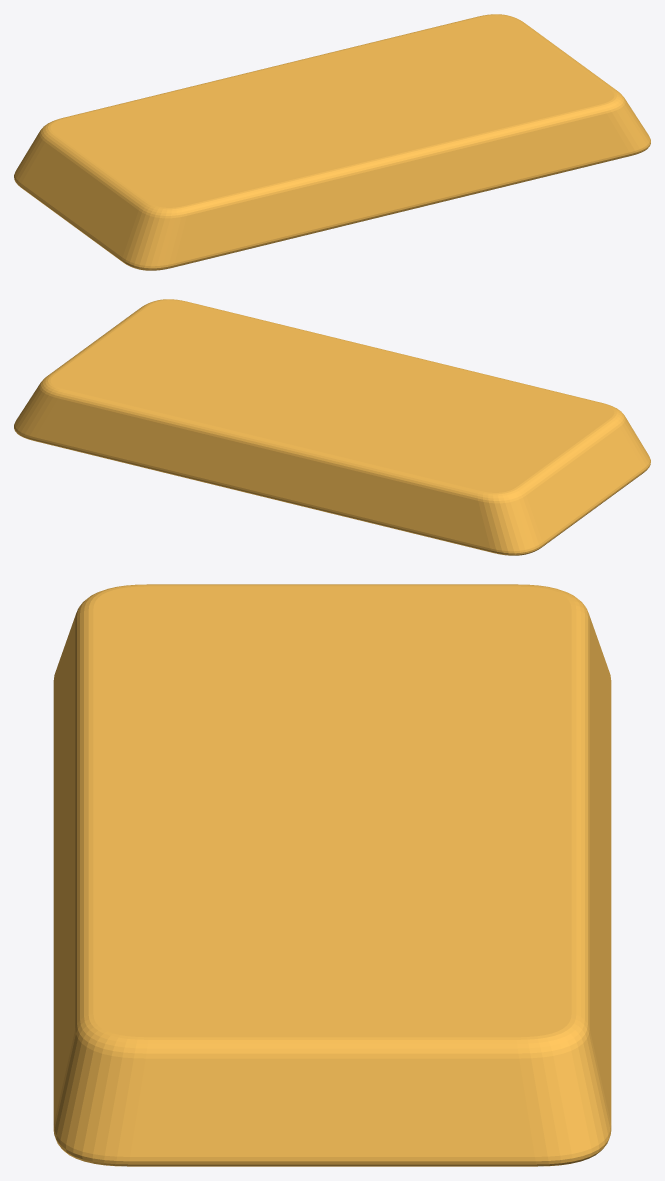
File: kilobar.glb
3 views of the same model, one above another, from view 1: azimuth 30°, elevation 25°; view 2: azimuth 150°, elevation 25°; view 3: azimuth 270°, elevation 25° (orthographic). The views are drawn at different scales.
Parts seen in each view (by area): view 1: Kilobar; view 2: Kilobar; view 3: Kilobar.
Boxes of the visible parts, x1,y1,x2,y2 form: Kilobar: [14, 14, 650, 270]; Kilobar: [14, 299, 650, 555]; Kilobar: [53, 584, 611, 1166].
Size of the model in its own units: 0.1181 by 0.0111 by 0.0546.
